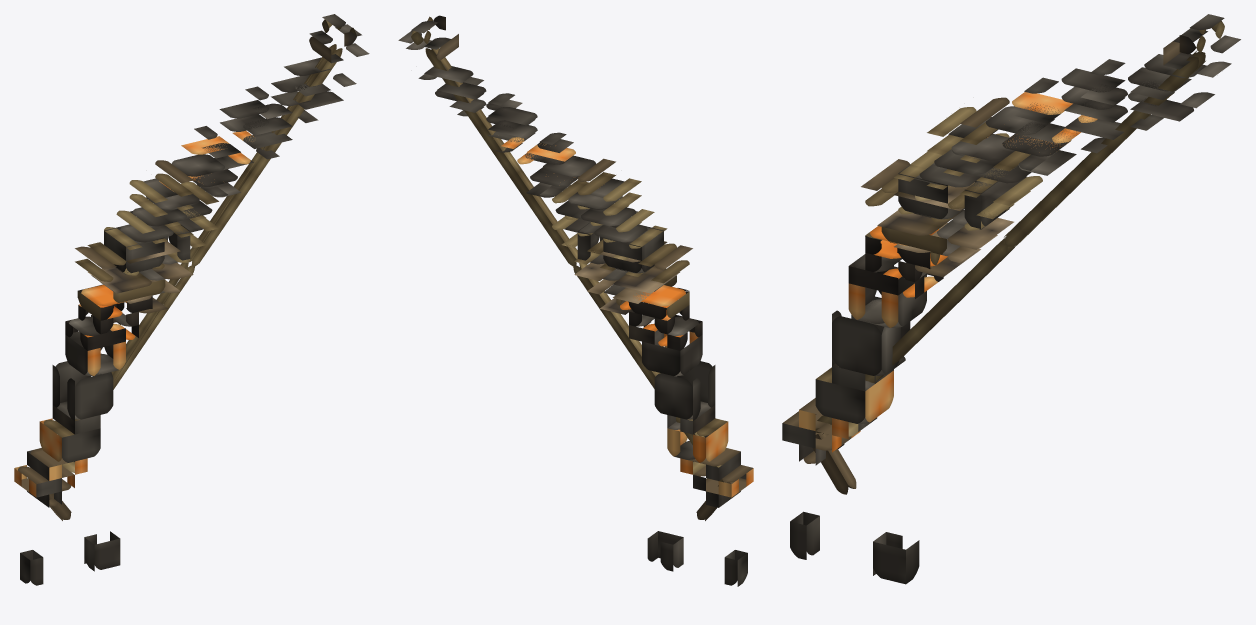
File: noose_bow.obj
3 renders of one model, left to right at view 1: azimuth 30°, elevation 25°; view 2: azimuth 150°, elevation 25°; view 3: azimuth 330°, elevation 25°, orthographic. The views are drawn at different scales.
Parts seen in each view (by area): view 1: lit; view 2: lit; view 3: lit.
Boxes of the visible parts, <box> form: lit: <box>14,14,369,585</box>; lit: <box>398,15,753,586</box>; lit: <box>782,14,1240,584</box>.
Size of the model in its own units: 0.8125 by 1.19 by 0.125.
